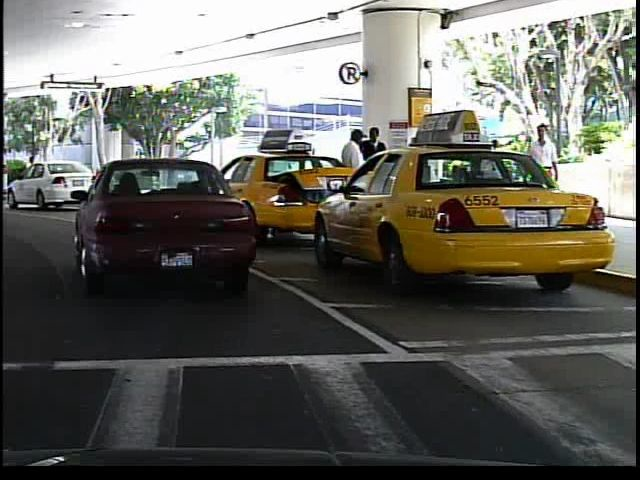person: (524, 118, 564, 229), (336, 126, 368, 226), (360, 125, 390, 221), (18, 150, 42, 194)
